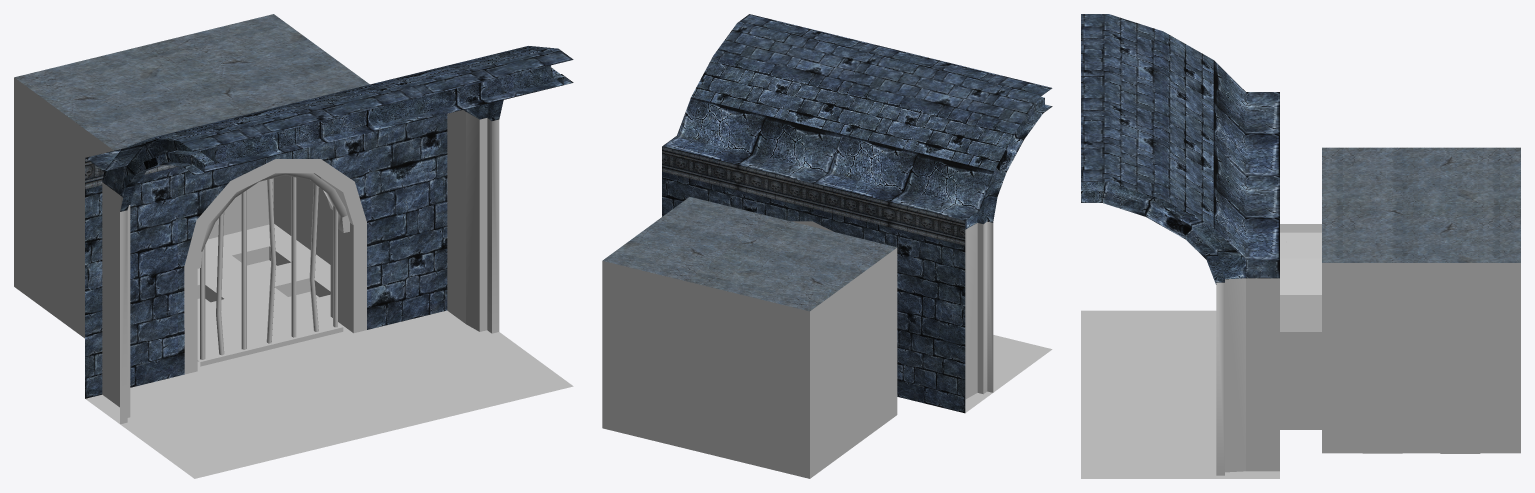
The model's file is Wall1Update3.FBX.
3 views of the same model, side by side, from view 1: azimuth 30°, elevation 25°; view 2: azimuth 150°, elevation 25°; view 3: azimuth 270°, elevation 25° (orthographic). The views are drawn at different scales.
Visible parts, largest first — view 1: vvv; view 2: vvv; view 3: vvv.
Part boxes in pixels (left/top/right/bottom): vvv: left=14, top=14, right=573, bottom=478; vvv: left=602, top=14, right=1052, bottom=478; vvv: left=1081, top=14, right=1520, bottom=478.
Size of the model in its own units: 91.85 by 78.78 by 102.
